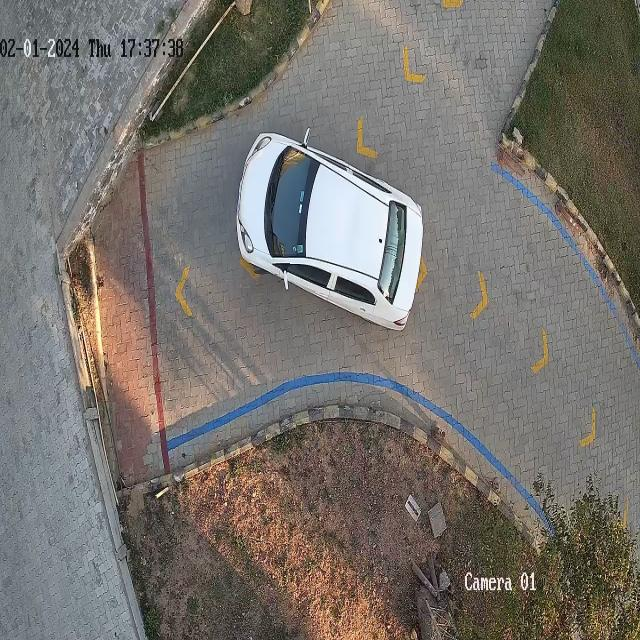car: (237, 135, 423, 329)
